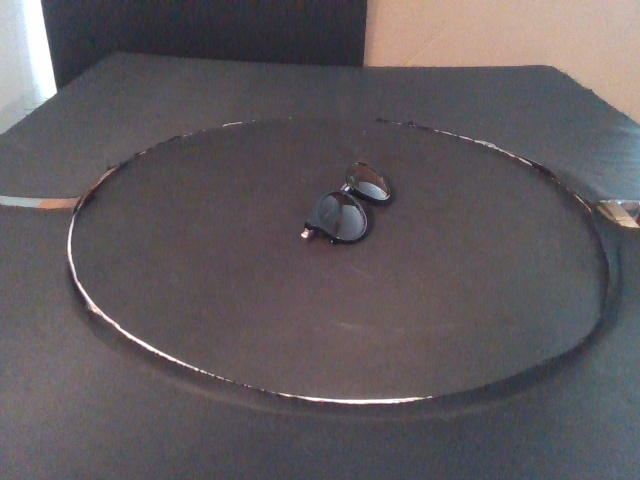glasses: (299, 160, 392, 245)
